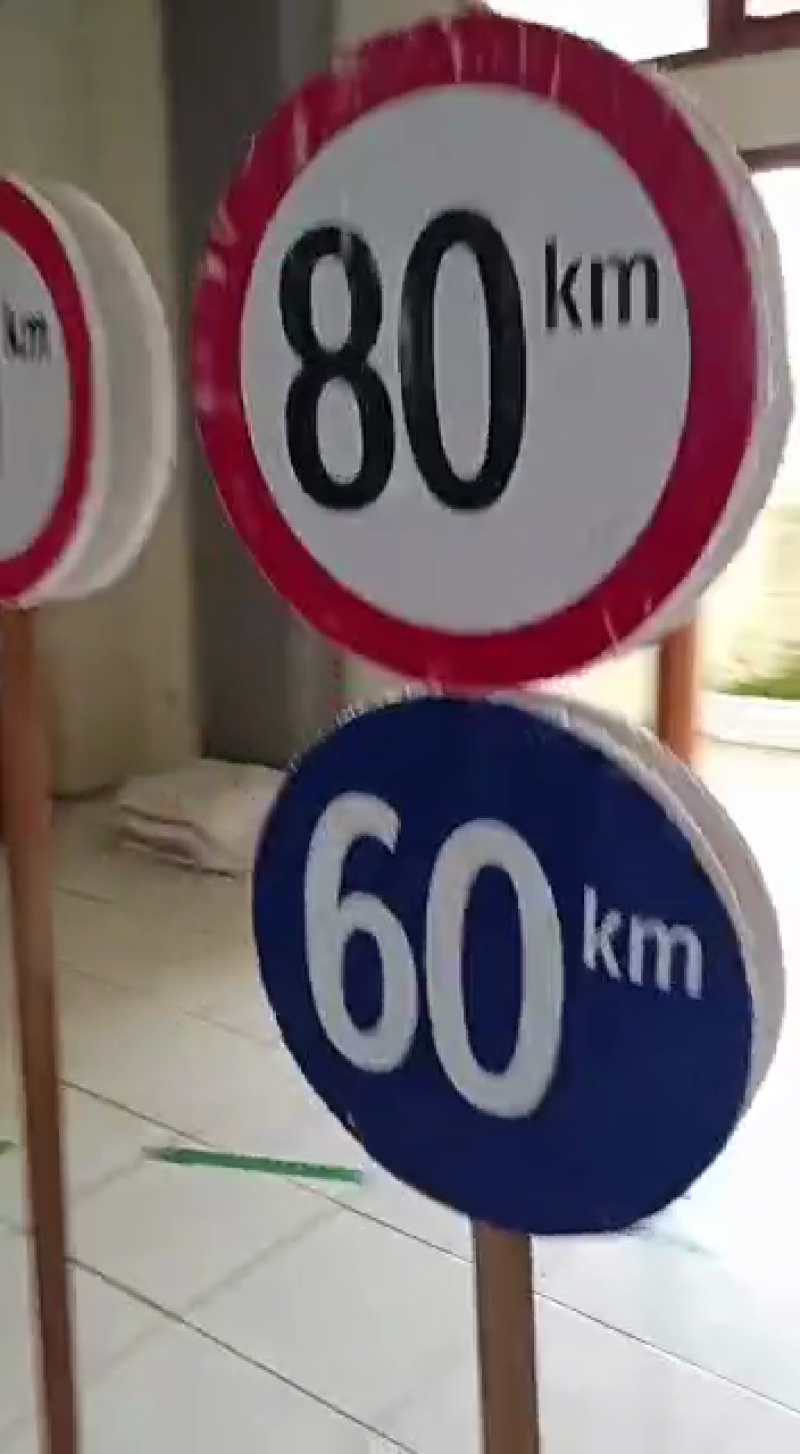batas maksimal 80kmperjam minimal 60kmperjam: (192, 5, 770, 1261)
